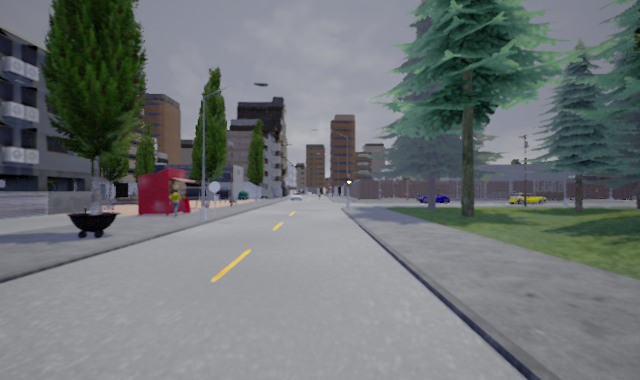pedestrian: (168, 187, 184, 217)
vehicle: (507, 192, 548, 205), (417, 192, 450, 204)
